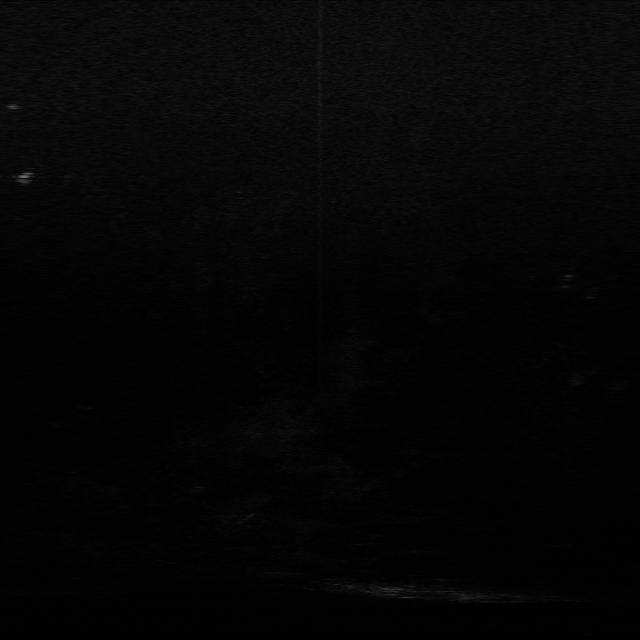rov: (11, 167, 37, 188)
